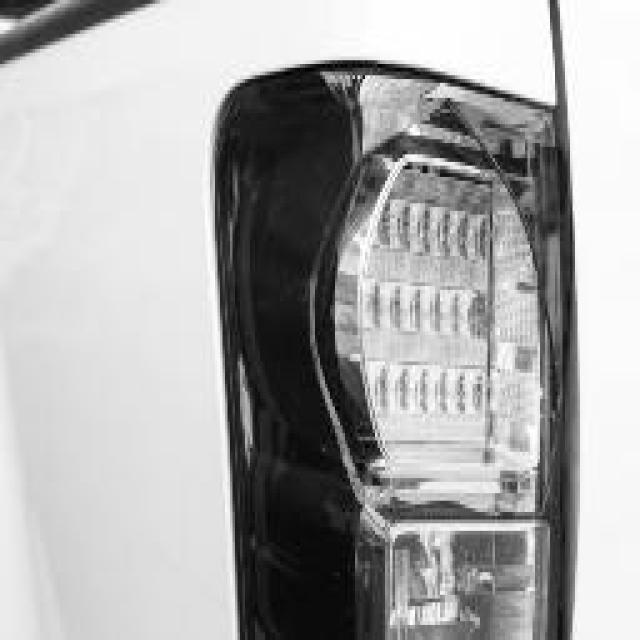Light: (232, 72, 555, 640)
